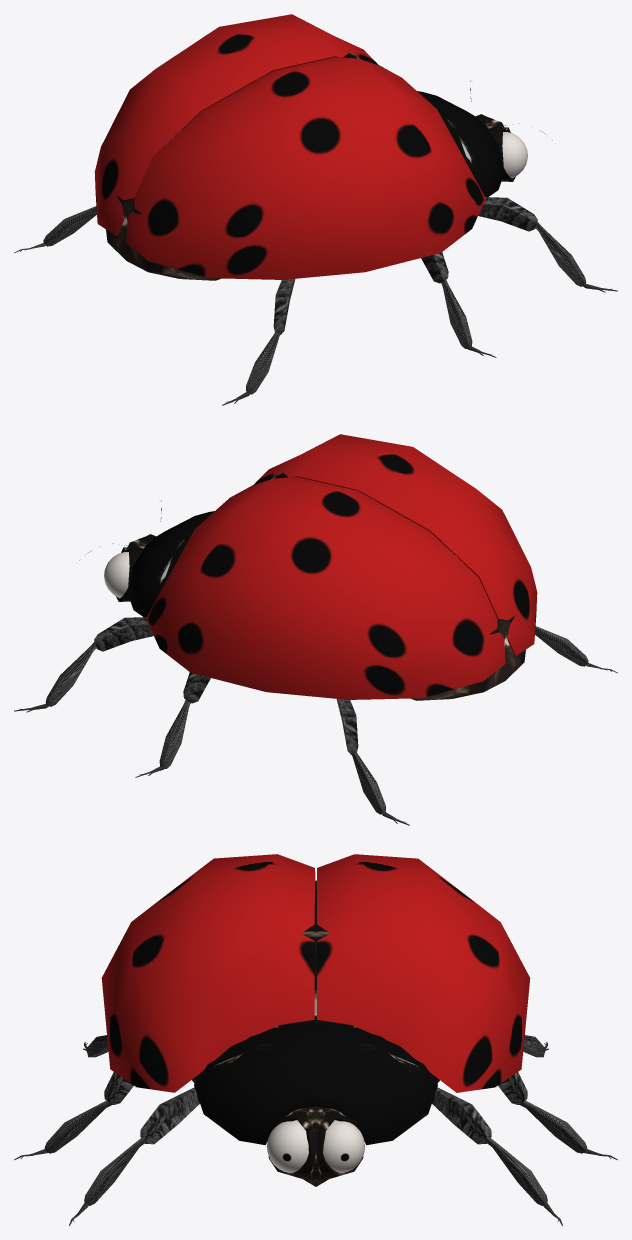
File: 七星瓢虫.FBX
3 renders of one model, top to bottom at view 1: azimuth 30°, elevation 25°; view 2: azimuth 150°, elevation 25°; view 3: azimuth 270°, elevation 25°, orthographic. The views are drawn at different scales.
Parts seen in each view (by area): view 1: Sphere02, Sphere01, Sphere03, 对象07, Box01, Box02, Sphere08, Box15, Box08, Box03, Box04, Box14; view 2: Sphere01, Sphere02, Sphere03, 对象07, Box12, Box11, Sphere07, Box16, Box03, Box08, Box07, Box17; view 3: Sphere01, Sphere02, Sphere03, 对象07, Sphere08, Sphere07, Box12, Box01, Box11, Box02, Box16, Box15 (+2 smaller).
Part boxes in pixels (x1,y1,x2,y2): Sphere02: (126, 57, 485, 279); Sphere01: (94, 14, 378, 235); Sphere03: (417, 91, 503, 197); 对象07: (106, 52, 515, 280); Box01: (478, 197, 537, 231); Box02: (535, 222, 586, 286); Sphere08: (502, 132, 527, 178); Box15: (441, 280, 472, 348); Box08: (43, 206, 96, 246); Box03: (246, 332, 280, 394); Box04: (273, 279, 295, 334); Box14: (421, 252, 448, 283); Sphere01: (146, 477, 505, 699); Sphere02: (254, 434, 537, 655); Sphere03: (128, 511, 214, 617); 对象07: (116, 472, 525, 700); Box12: (94, 617, 153, 651); Box11: (45, 642, 96, 706); Sphere07: (104, 552, 129, 598); Box16: (159, 700, 190, 768); Box03: (535, 626, 588, 666); Box08: (351, 752, 385, 814); Box07: (336, 699, 358, 754); Box17: (183, 672, 210, 703); Sphere01: (317, 854, 530, 1092); Sphere02: (101, 854, 315, 1092); Sphere03: (194, 1022, 437, 1145); 对象07: (192, 880, 439, 1186); Sphere08: (266, 1120, 308, 1172); Sphere07: (323, 1120, 365, 1172); Box12: (432, 1087, 491, 1144); Box01: (140, 1087, 199, 1144); Box11: (485, 1137, 547, 1205); Box02: (84, 1137, 146, 1205); Box16: (519, 1100, 587, 1153); Box15: (44, 1100, 112, 1153).
Bounding box in the file's own units: 12.02 × 6.81 × 14.2.
